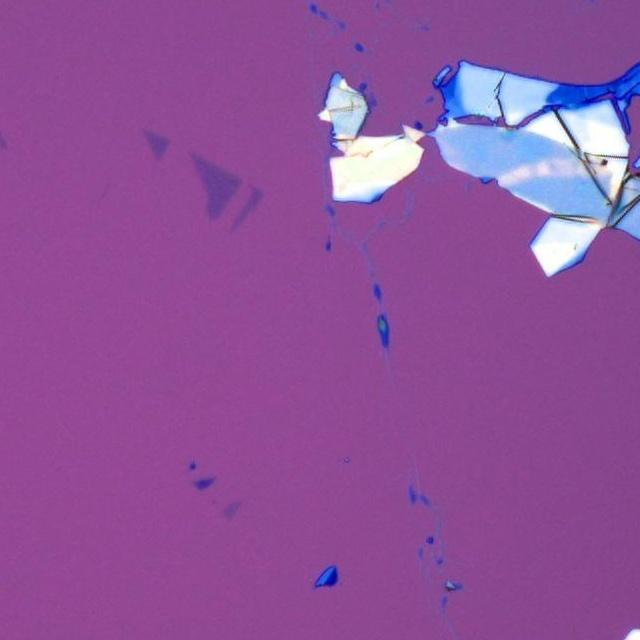monolayer-eWW4: (190, 150, 242, 222), (233, 182, 264, 231), (142, 128, 170, 160)
